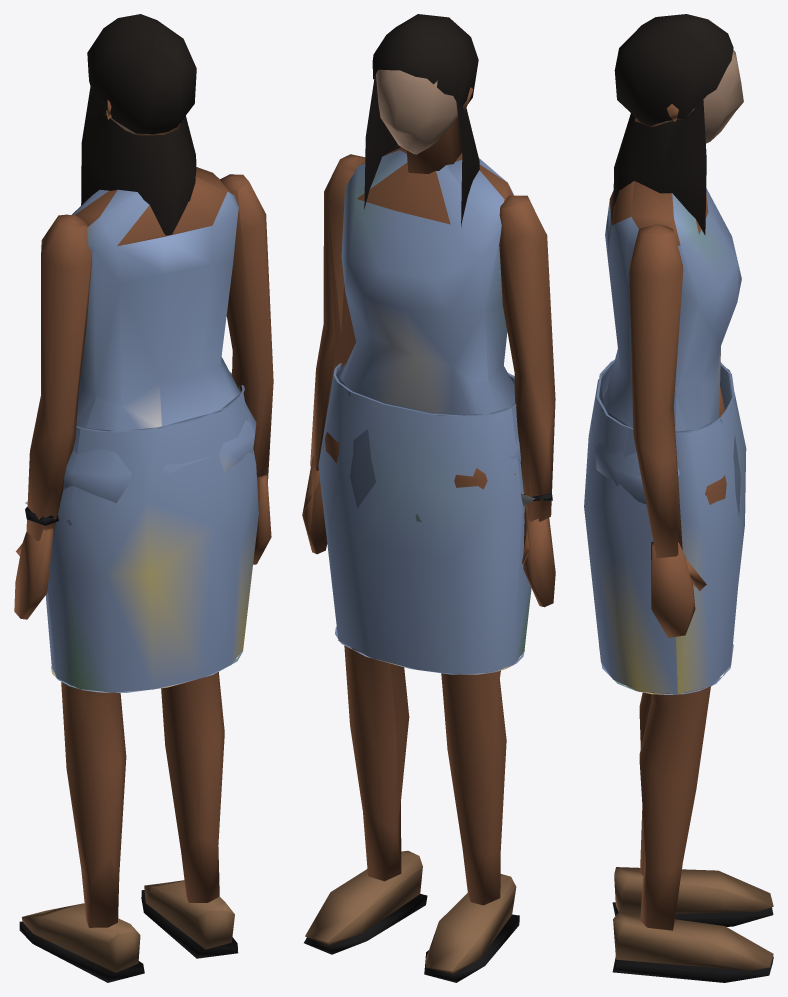
File: crowd_summer_dress_lod0.glb
The picture shows the model from 3 angles, left to right: view 1: azimuth 30°, elevation 25°; view 2: azimuth 150°, elevation 25°; view 3: azimuth 270°, elevation 25°; orthographic projection.
Parts seen in each view (by area): view 1: crowd_summer_dress_lod0; view 2: crowd_summer_dress_lod0; view 3: crowd_summer_dress_lod0.
Boxes of the visible parts, x1,y1,x2,y2 form: crowd_summer_dress_lod0: (14,14,273,982); crowd_summer_dress_lod0: (302,14,555,982); crowd_summer_dress_lod0: (584,14,773,982).
Bounding box in the file's own units: 0.4585 × 1.66 × 0.3093.
